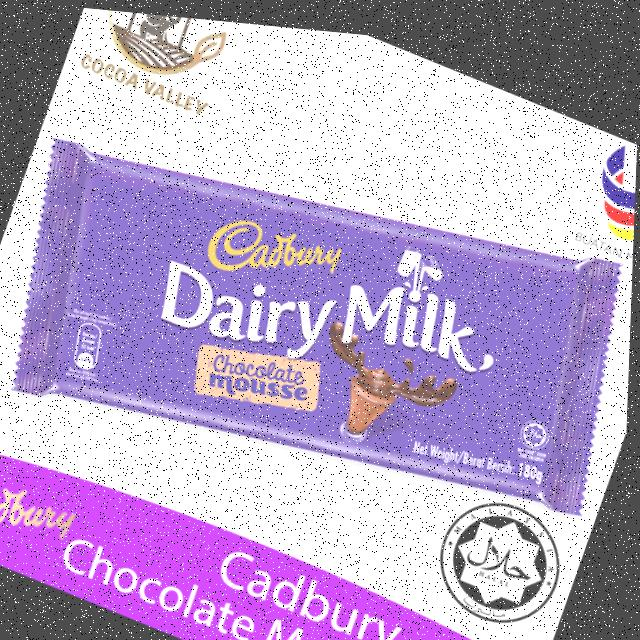cadbury: (0, 34, 639, 605)
